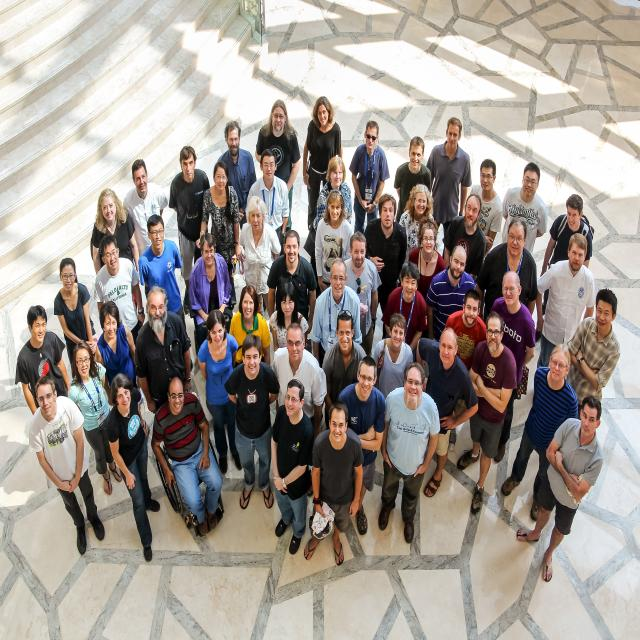body: (516, 394, 604, 583), (25, 371, 108, 560), (501, 342, 579, 522), (455, 308, 518, 519), (376, 356, 442, 547), (149, 373, 224, 535), (300, 396, 364, 569), (416, 327, 479, 498), (106, 372, 162, 563), (224, 335, 280, 510), (334, 353, 386, 538), (488, 270, 537, 466), (266, 376, 316, 555), (68, 340, 122, 494), (536, 232, 596, 369), (134, 285, 193, 415), (565, 286, 622, 419), (197, 308, 242, 474), (538, 192, 595, 320), (303, 156, 353, 299), (168, 144, 210, 314), (474, 215, 538, 326), (444, 289, 487, 453), (425, 116, 472, 262), (362, 193, 408, 340), (272, 322, 328, 441), (13, 304, 72, 416), (254, 98, 301, 232), (92, 187, 141, 312), (93, 234, 146, 348), (137, 214, 187, 332), (310, 256, 363, 367), (302, 95, 343, 234), (195, 160, 242, 280), (322, 308, 367, 431), (266, 229, 318, 335), (238, 196, 282, 320), (188, 232, 232, 352), (244, 147, 290, 260), (54, 257, 96, 379), (425, 245, 477, 343), (343, 230, 382, 358), (349, 120, 390, 238), (122, 157, 168, 260), (94, 300, 138, 407), (381, 261, 427, 362), (500, 162, 549, 256), (217, 120, 257, 231), (314, 189, 354, 294), (442, 194, 486, 284), (228, 285, 272, 369), (373, 312, 413, 402), (392, 135, 432, 224), (470, 158, 504, 261), (408, 217, 445, 303), (398, 184, 435, 266), (268, 281, 310, 353)
